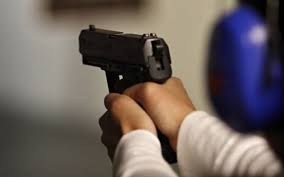Arma Real: (78, 25, 191, 159)
